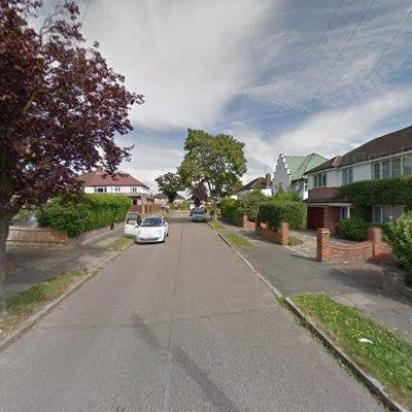stationary-car-onstreet: (124, 214, 168, 246), (190, 207, 206, 223)
